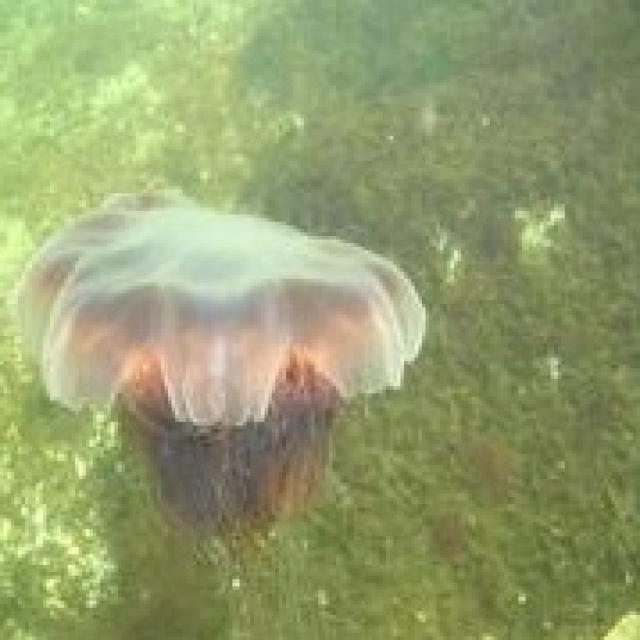Box-jellyfish: (11, 182, 425, 551)
